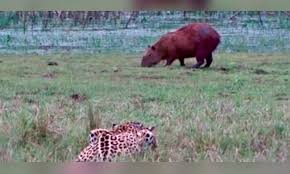capivara: (140, 23, 221, 70)
